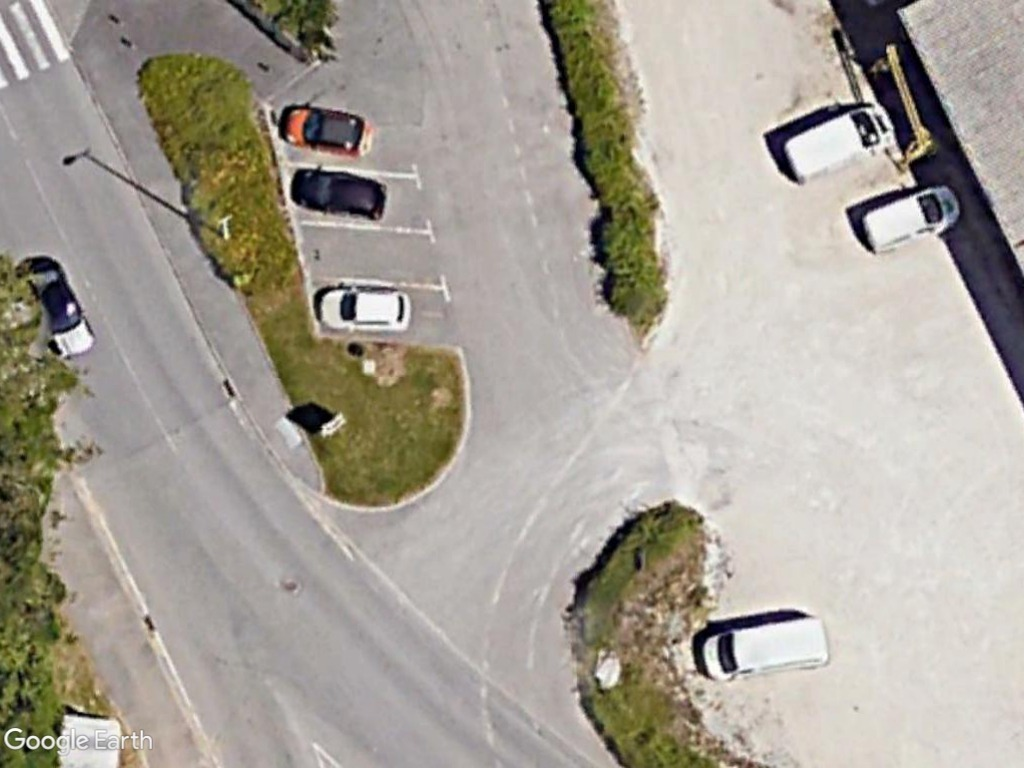car: (315, 283, 415, 336), (281, 101, 374, 157)
van: (780, 102, 890, 189), (699, 615, 832, 683), (857, 180, 964, 257)
